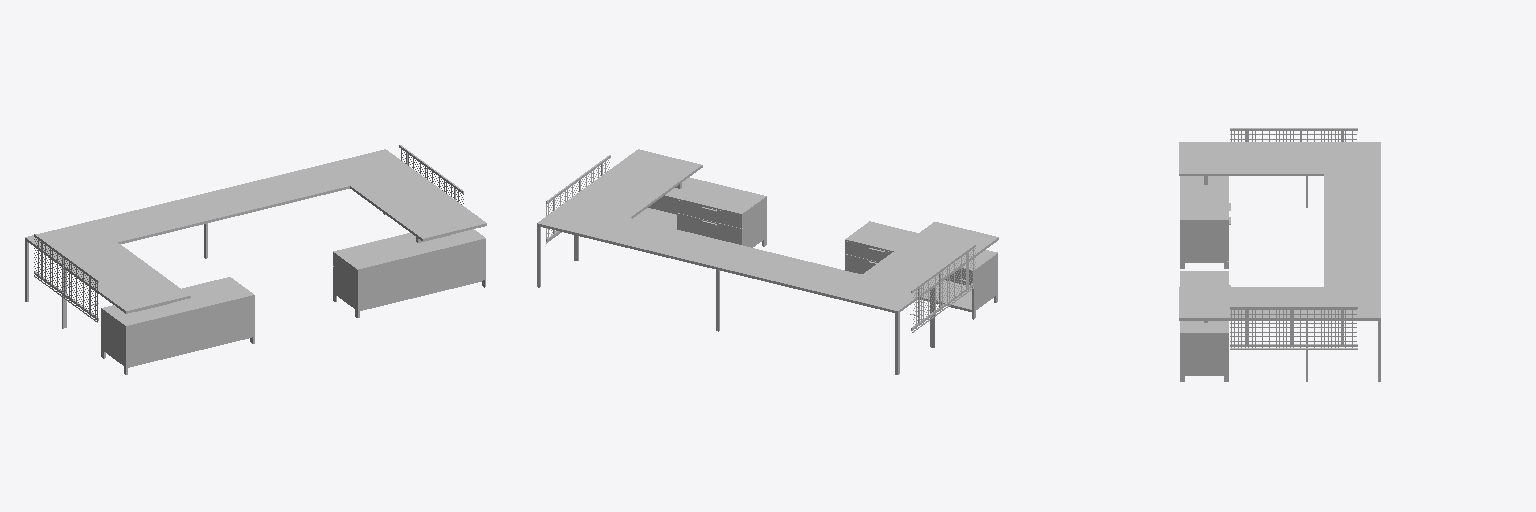
Rendered from DualDesk.obj.
3 views of the same model, side by side, from view 1: azimuth 30°, elevation 25°; view 2: azimuth 150°, elevation 25°; view 3: azimuth 270°, elevation 25° (orthographic).
Visible parts, largest first — view 1: DualDesk.obj; view 2: DualDesk.obj; view 3: DualDesk.obj.
Part boxes in pixels (x1,y1,x2,y2): DualDesk.obj: (25,145,486,374); DualDesk.obj: (537,149,998,374); DualDesk.obj: (1179,128,1380,381).
Bounding box in the file's own units: 4.27 × 0.8517 × 2.04.